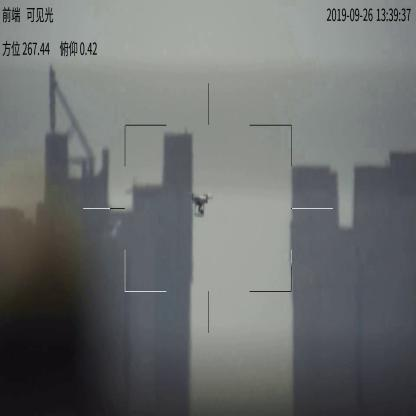uav: (188, 192, 213, 218)
